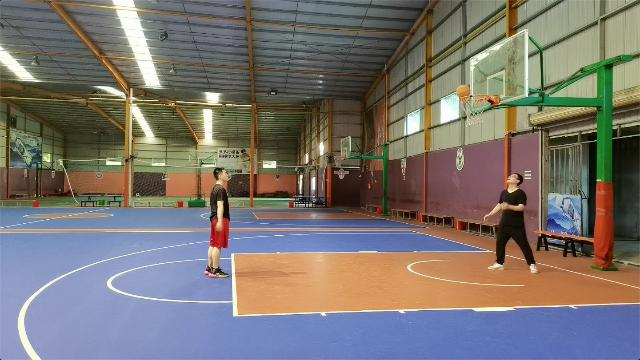ball: (456, 83, 470, 98)
